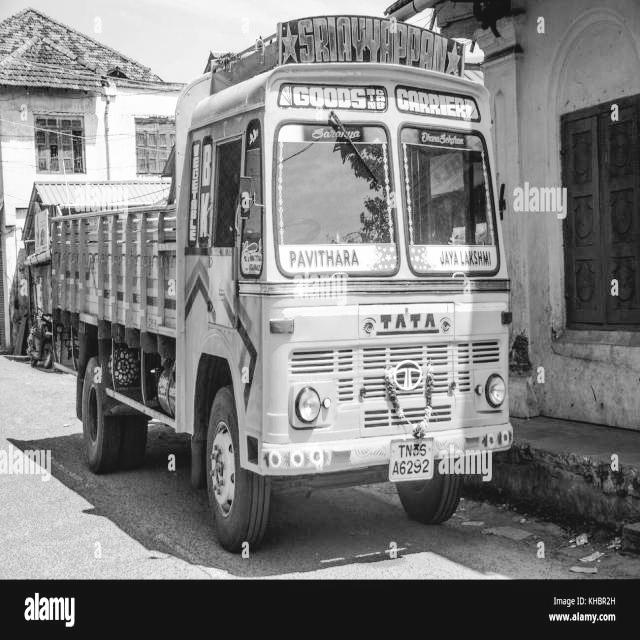HCV: (26, 10, 556, 550)
